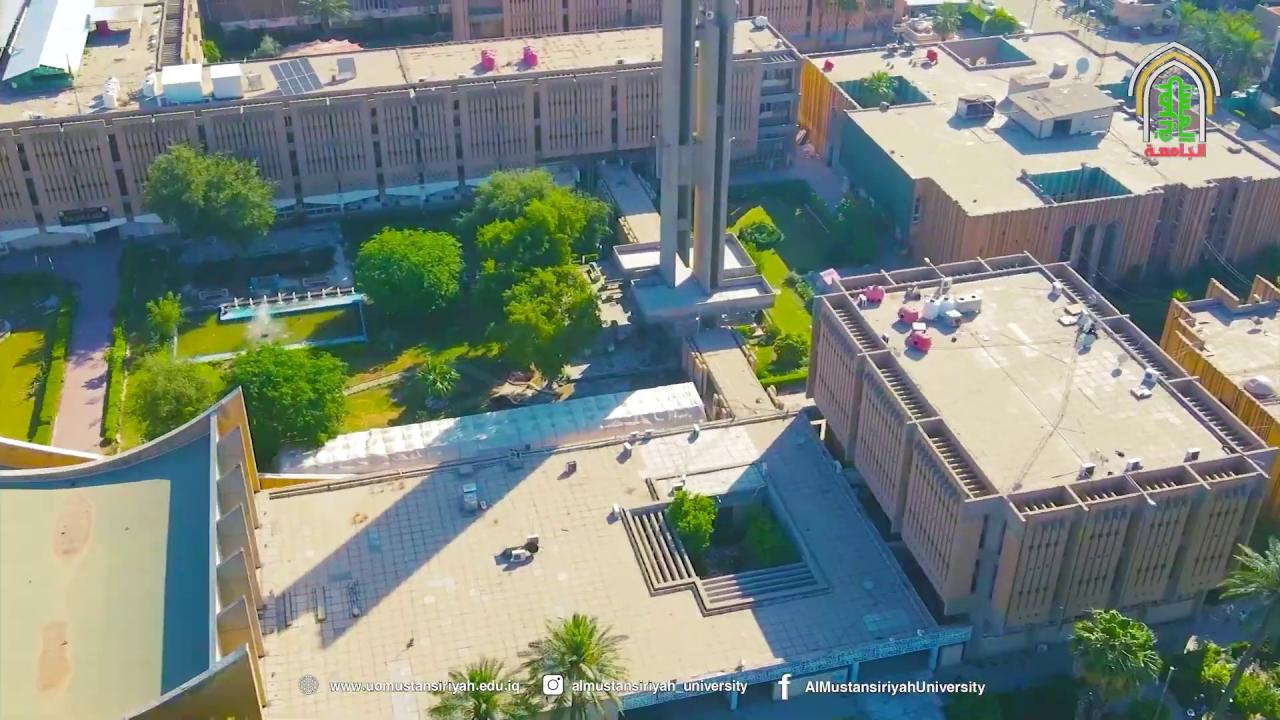fountain: (217, 283, 367, 323)
tree: (351, 164, 614, 400), (452, 165, 613, 272), (219, 338, 349, 464), (139, 139, 280, 248), (1197, 535, 1279, 718), (500, 262, 602, 389), (515, 611, 631, 718), (351, 224, 465, 318), (124, 347, 224, 444), (1066, 606, 1162, 701), (1175, 1, 1267, 96), (1197, 636, 1278, 718), (426, 654, 522, 719), (414, 340, 504, 408), (13, 334, 66, 442), (473, 165, 556, 221), (1217, 534, 1279, 604), (98, 323, 131, 442), (664, 487, 718, 550), (739, 500, 788, 569), (144, 289, 183, 359), (414, 352, 461, 408), (24, 361, 49, 441), (964, 1, 1017, 35), (298, 0, 351, 30), (737, 220, 784, 252), (771, 330, 810, 368), (861, 68, 896, 107), (929, 1, 963, 40), (250, 34, 280, 59), (200, 37, 222, 64)
